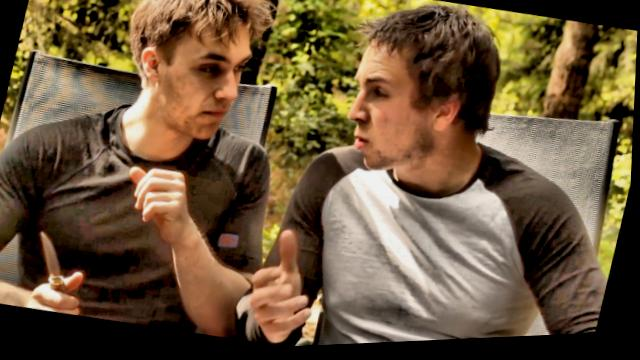knife: (16, 217, 105, 319)
